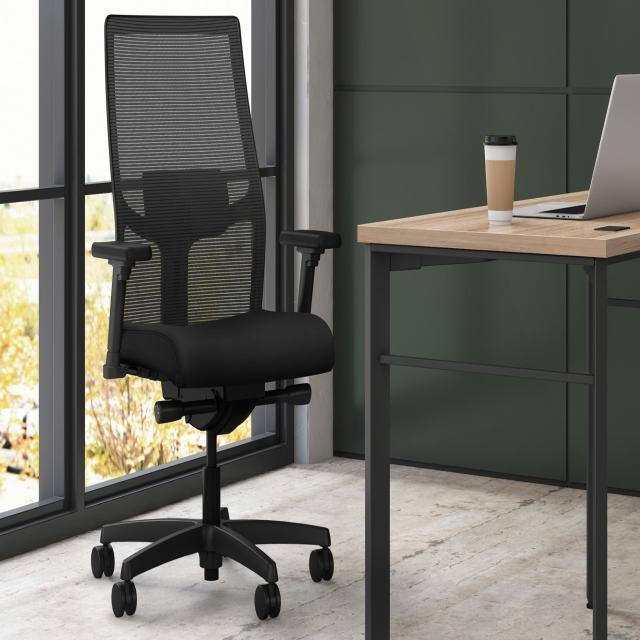chair: (90, 13, 342, 620)
